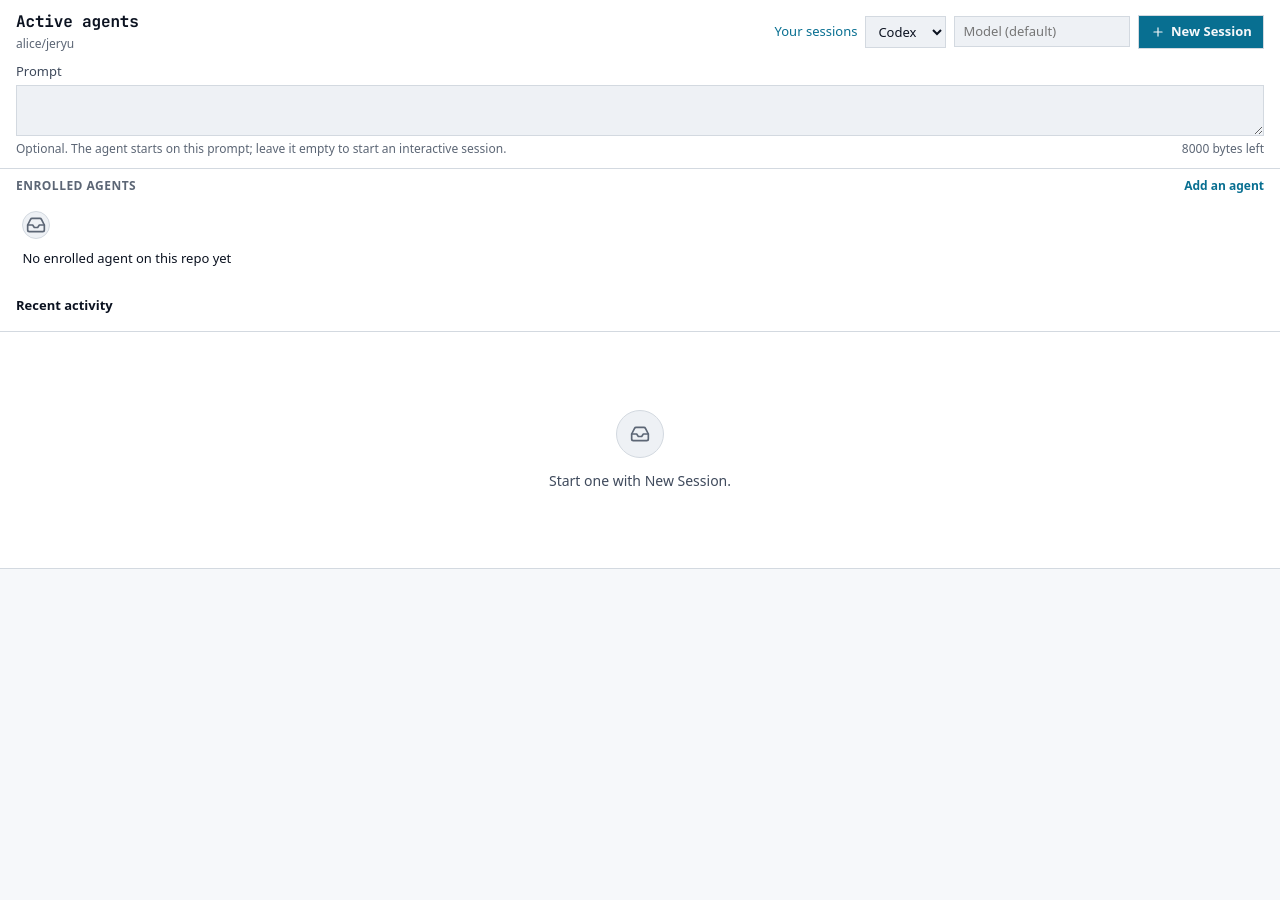
Scenario: RepositoryAgentsPage — New Session › shows an error state when the session create fails
This screenshot has width=1280, height=900.
Click the button with test id "new-session-button". click: (1201, 32)
box: x1=1138 y1=15 x2=1264 y2=49
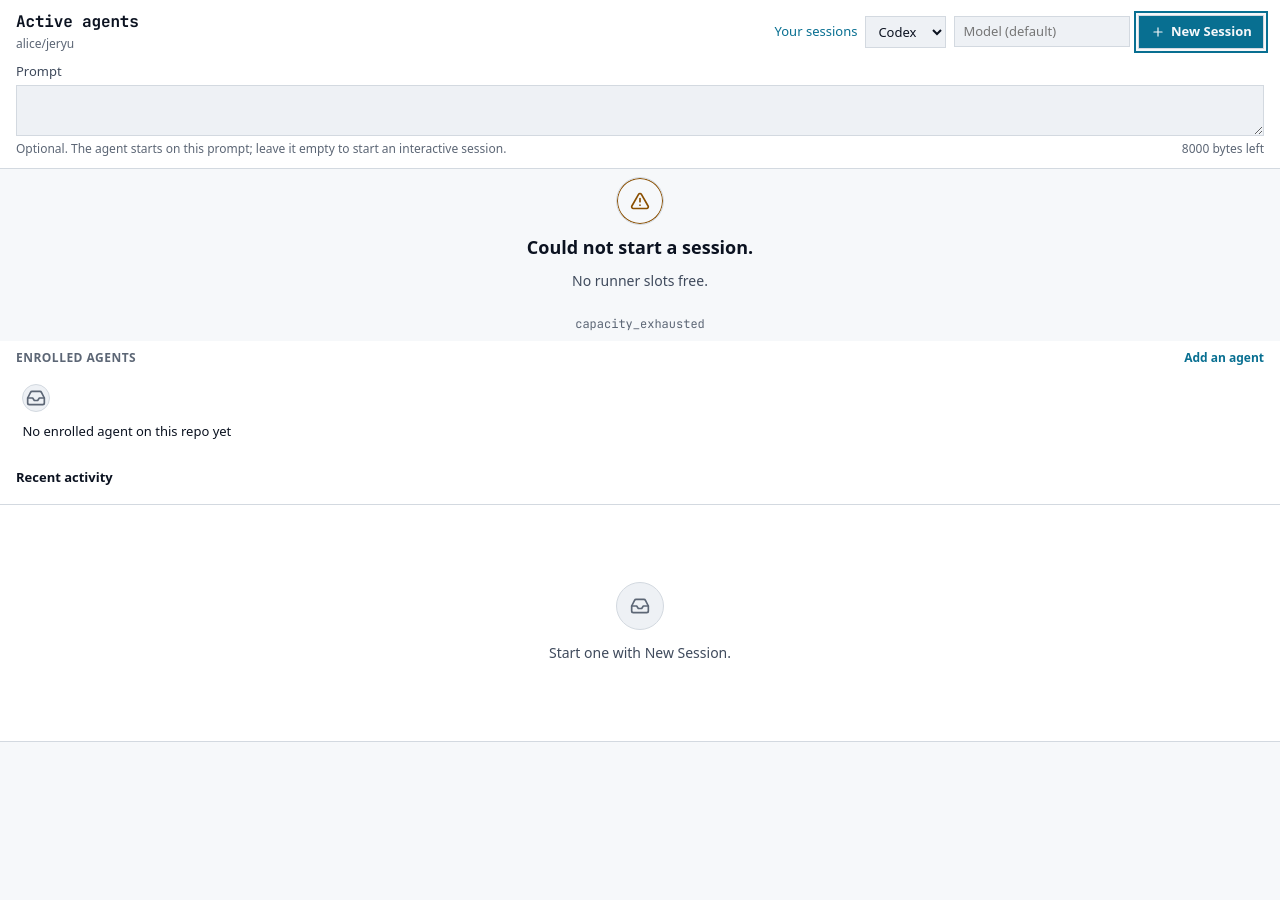
Expected: the message with test id "new-session-error" shows "No runner slots free.", x1=572 y1=271 x2=708 y2=290
